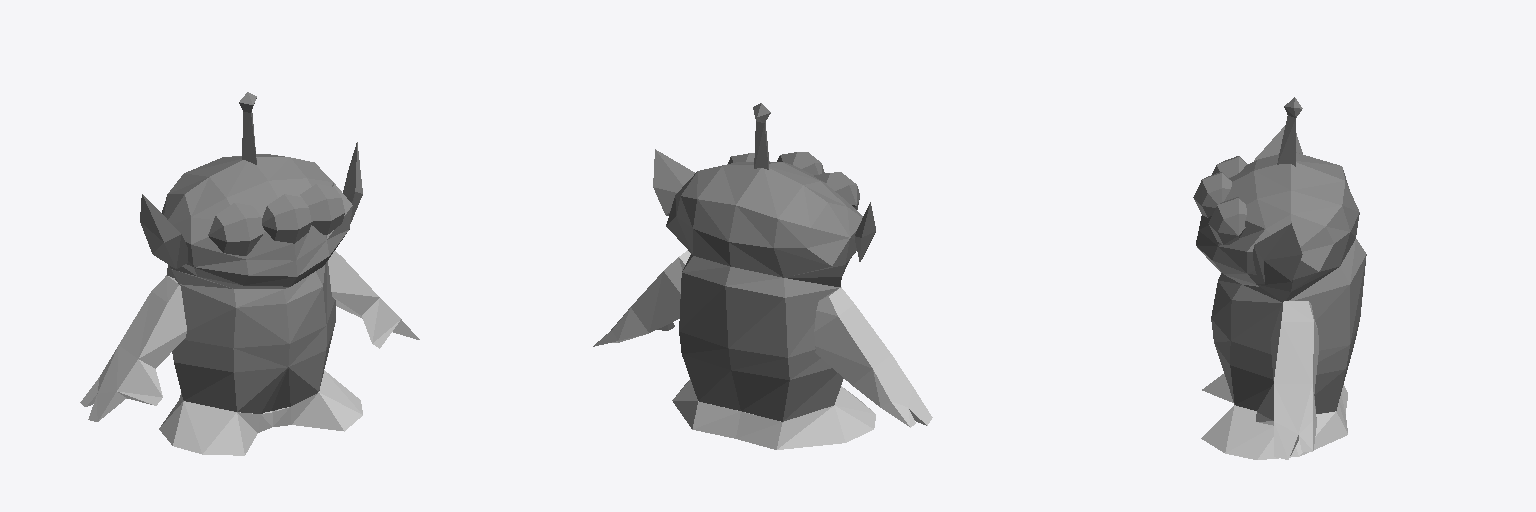
3 renders of one model, left to right at view 1: azimuth 30°, elevation 25°; view 2: azimuth 150°, elevation 25°; view 3: azimuth 270°, elevation 25°, orthographic.
Visible parts, largest first — view 1: Obj_1, OBJ_RFoot, Obj_LArm, Obj_RArm, Obj_LFoot; view 2: Obj_1, OBJ_RFoot, Obj_LArm, Obj_RArm, Obj_LFoot; view 3: Obj_1, Obj_RArm, Obj_LFoot, Obj_LArm.
Boxes of the visible parts, x1=… form: Obj_1: x1=140, y1=92, x2=362, y2=413; OBJ_RFoot: x1=80, y1=275, x2=186, y2=421; Obj_LArm: x1=159, y1=393, x2=272, y2=455; Obj_RArm: x1=328, y1=251, x2=419, y2=348; Obj_LFoot: x1=272, y1=370, x2=362, y2=431; Obj_1: x1=653, y1=103, x2=875, y2=421; OBJ_RFoot: x1=814, y1=287, x2=932, y2=427; Obj_LArm: x1=736, y1=386, x2=875, y2=449; Obj_RArm: x1=593, y1=250, x2=690, y2=346; Obj_LFoot: x1=672, y1=379, x2=740, y2=438; Obj_1: x1=1193, y1=97, x2=1366, y2=413; Obj_RArm: x1=1256, y1=301, x2=1318, y2=459; Obj_LFoot: x1=1201, y1=401, x2=1347, y2=459; Obj_LArm: x1=1202, y1=374, x2=1347, y2=413.
Size of the model in its own units: 1.21 by 1.12 by 0.553.